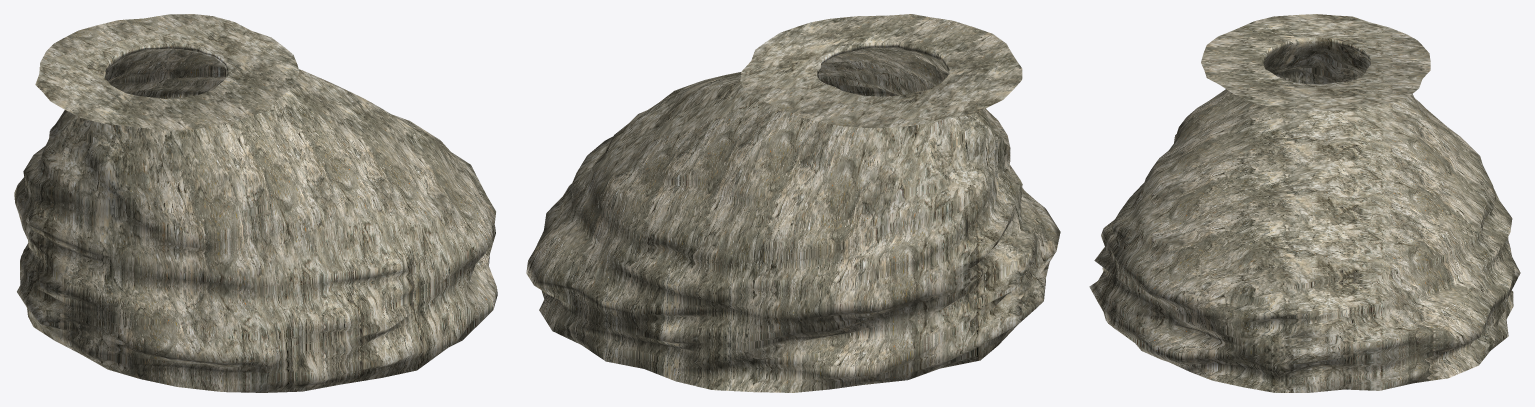
Rendered from Cenote.fbx.
3 views of the same model, side by side, from view 1: azimuth 30°, elevation 25°; view 2: azimuth 150°, elevation 25°; view 3: azimuth 270°, elevation 25° (orthographic). The views are drawn at different scales.
Parts seen in each view (by area): view 1: Cylinder001; view 2: Cylinder001; view 3: Cylinder001.
Boxes of the visible parts, x1=… form: Cylinder001: x1=14, y1=14, x2=497, y2=392; Cylinder001: x1=526, y1=14, x2=1060, y2=392; Cylinder001: x1=1089, y1=14, x2=1520, y2=392.
Bounding box in the file's own units: 20.5 × 10.91 × 20.49.
